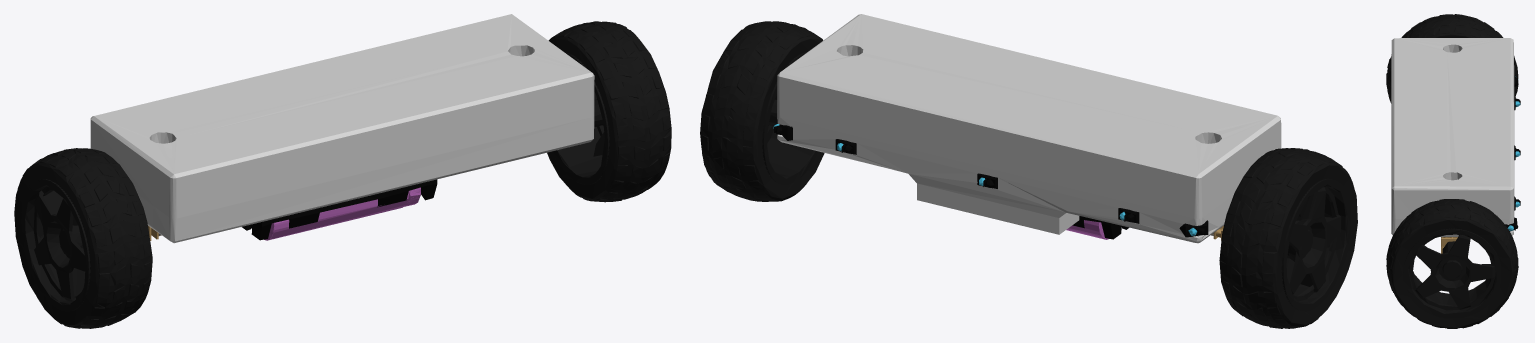
Rendered from AutoCompressedNORemesh.glb.
3 views of the same model, side by side, from view 1: azimuth 30°, elevation 25°; view 2: azimuth 150°, elevation 25°; view 3: azimuth 270°, elevation 25° (orthographic). The views are drawn at different scales.
Visible parts, largest first — view 1: AutoCompleto.002; view 2: AutoCompleto.002; view 3: AutoCompleto.002.
Boxes of the visible parts, x1,y1,x2,y2 form: AutoCompleto.002: [14, 14, 671, 328]; AutoCompleto.002: [700, 14, 1357, 328]; AutoCompleto.002: [1386, 14, 1520, 328].
Bounding box in the file's own units: 0.2525 × 0.0689 × 0.0699.
